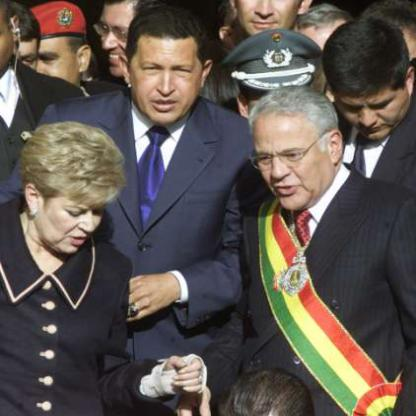face: (249, 93, 331, 212), (37, 145, 116, 258), (131, 15, 206, 124), (332, 43, 409, 142), (86, 1, 148, 80)
